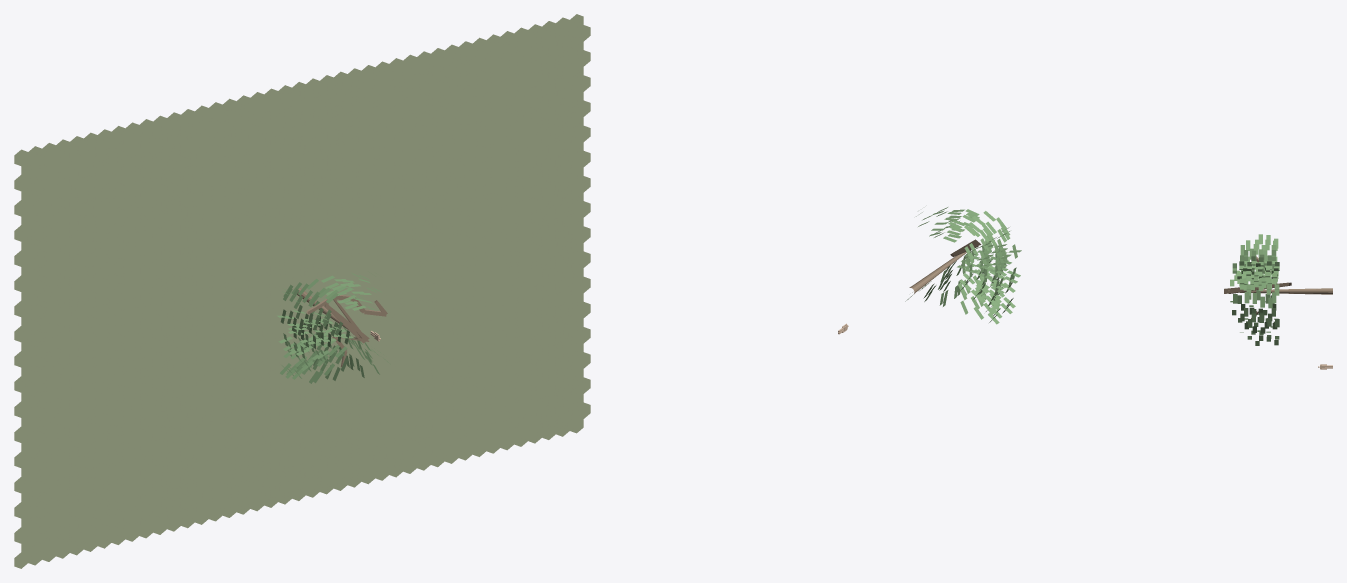
The model's file is tree.glb.
3 views of the same model, side by side, from view 1: azimuth 30°, elevation 25°; view 2: azimuth 150°, elevation 25°; view 3: azimuth 270°, elevation 25° (orthographic). The views are drawn at different scales.
Parts seen in each view (by area): view 1: ground, foliage, branches; view 2: foliage; view 3: foliage, trunk, branches.
Part boxes in pixels (bbox=[...]): ground: bbox=[14, 14, 590, 568]; foliage: bbox=[277, 271, 390, 383]; branches: bbox=[306, 295, 387, 366]; foliage: bbox=[905, 207, 1021, 324]; foliage: bbox=[1230, 234, 1279, 345]; trunk: bbox=[1228, 288, 1332, 294]; branches: bbox=[1224, 256, 1291, 318].
Bounding box in the file's own units: 71.88 × 50 × 14.61.
